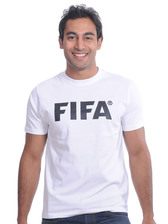clothoes: (24, 69, 149, 219)
